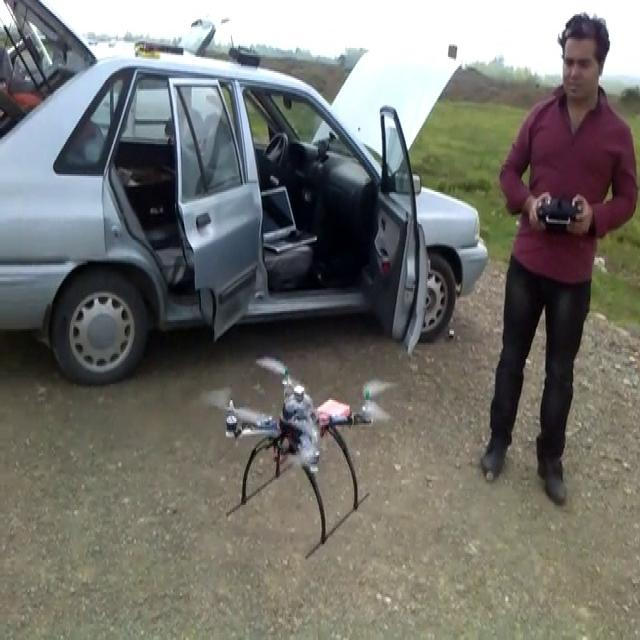drone: (191, 352, 402, 558)
